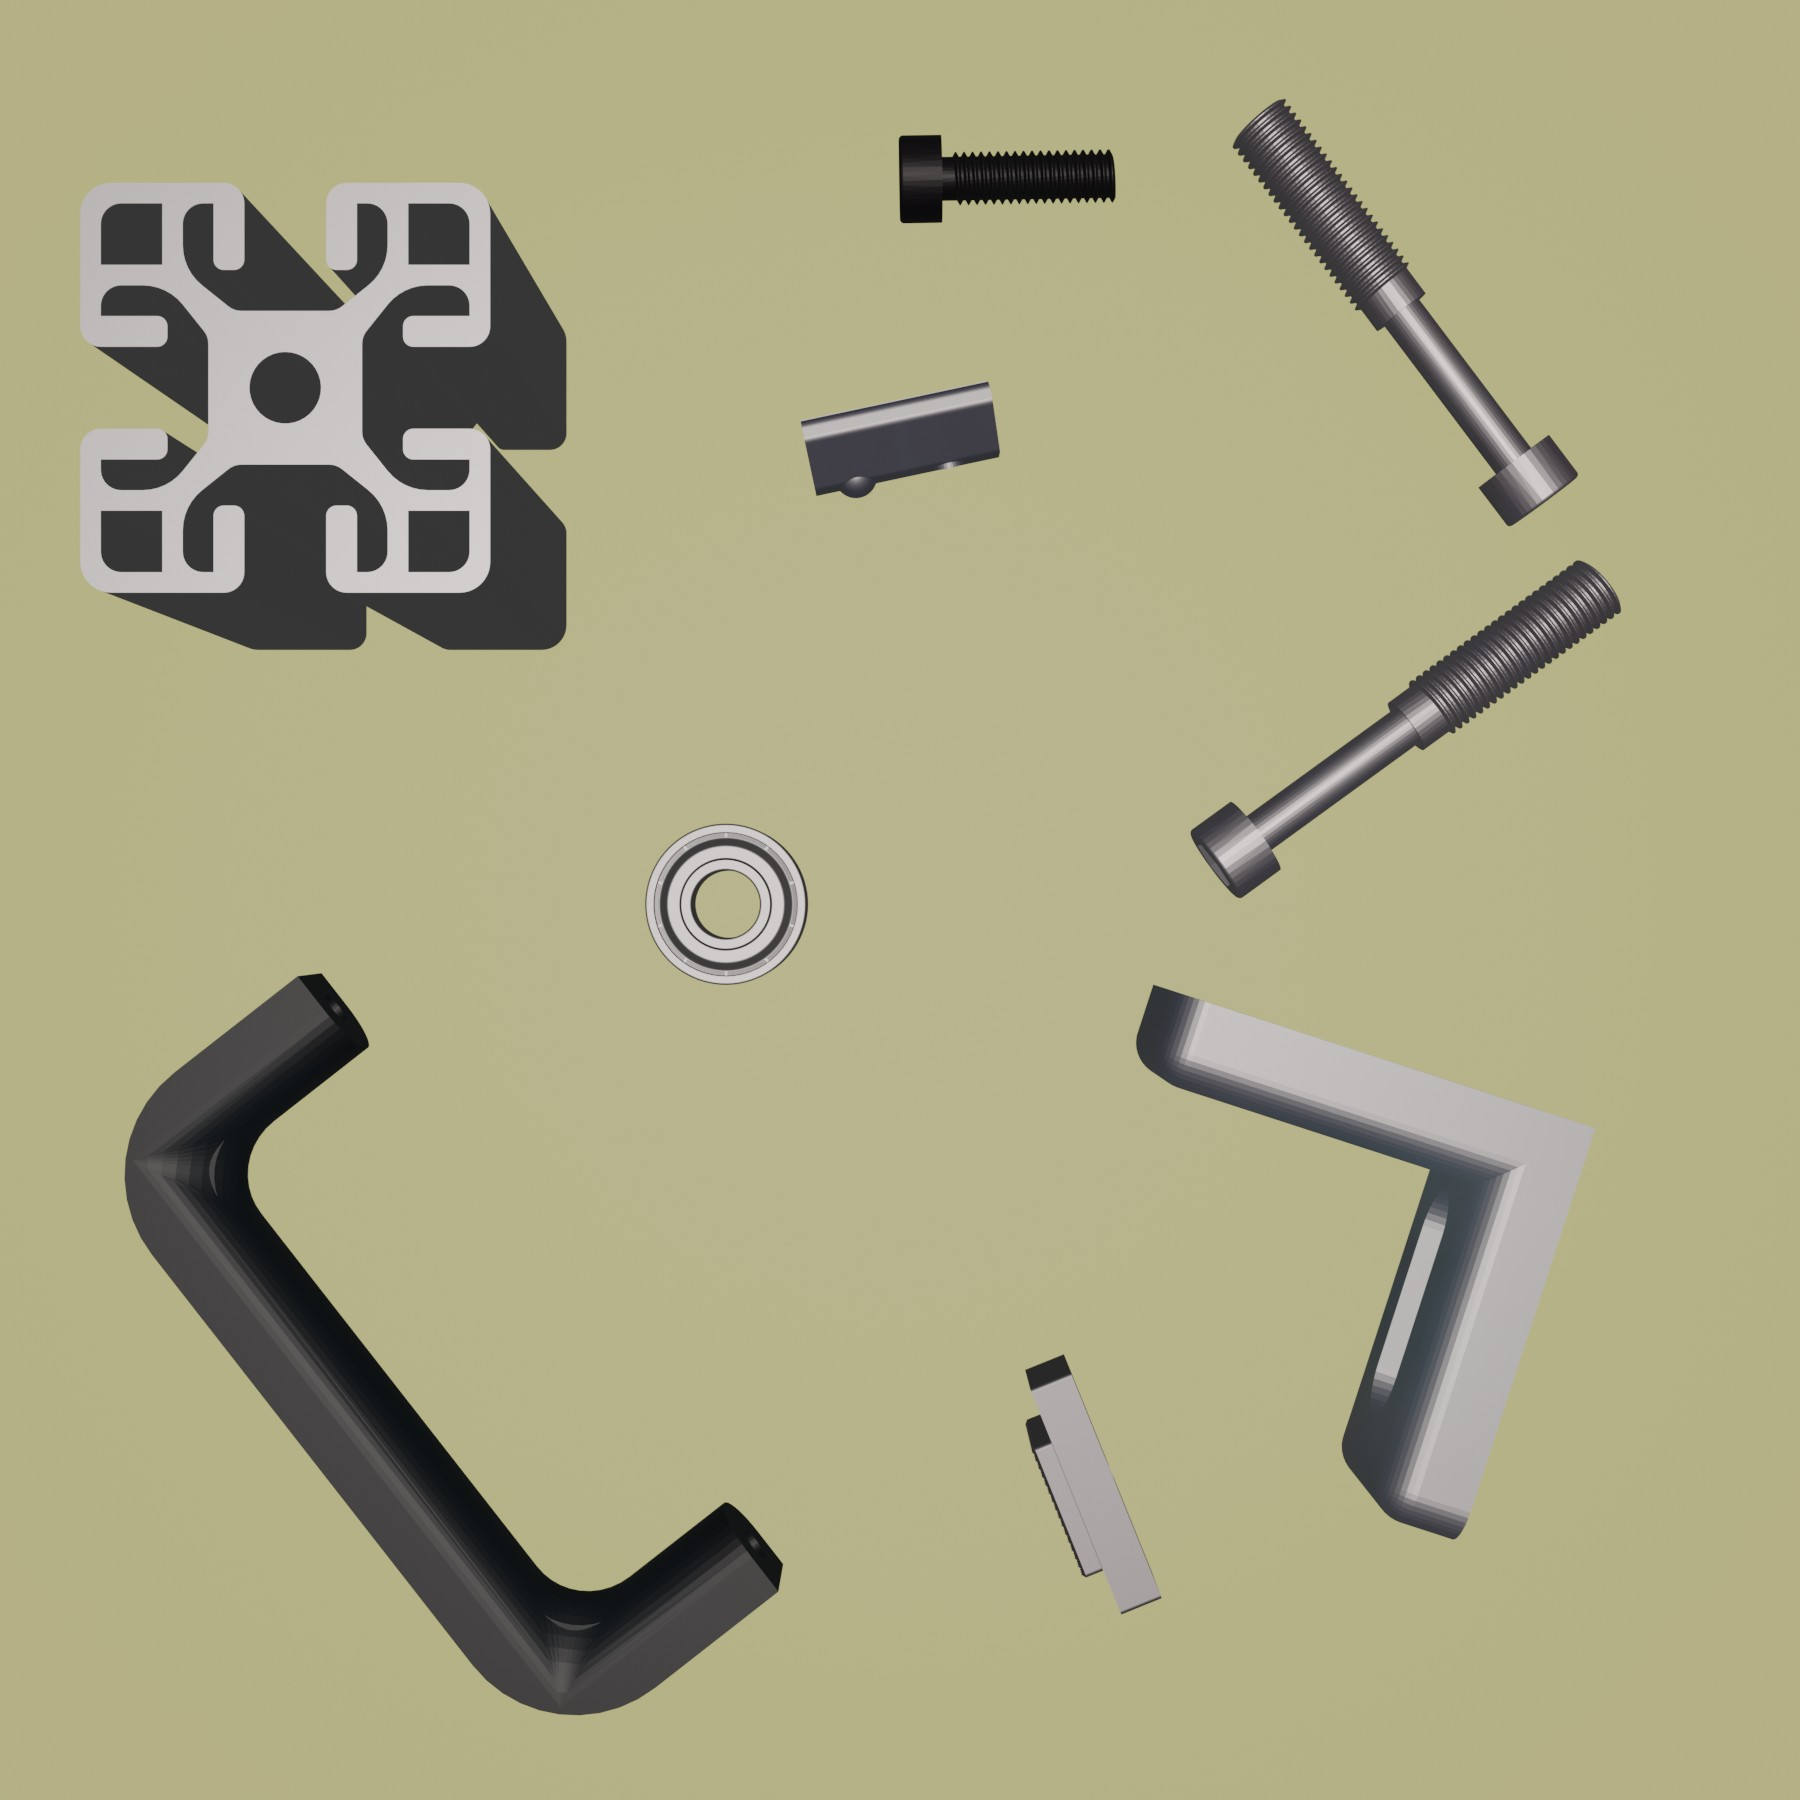Aluminium Extension: (74, 176, 570, 654)
Ball Bearing: (645, 823, 809, 986)
Multiwinkel: (1132, 982, 1601, 1543)
Pull Handle: (120, 969, 785, 1719)
Shoulder Socket Head Cap Screw: (1226, 96, 1577, 532), (1184, 559, 1625, 898)
Socket Head Cap Screw: (893, 130, 1119, 227)
T Nut Square: (1020, 1353, 1164, 1620)
T Spring Nut: (798, 376, 1004, 501)
